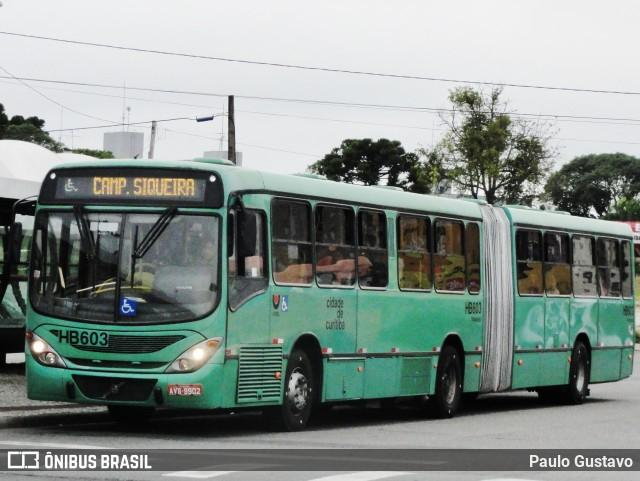CAMP. SIQUEIRA: (87, 173, 199, 201)
